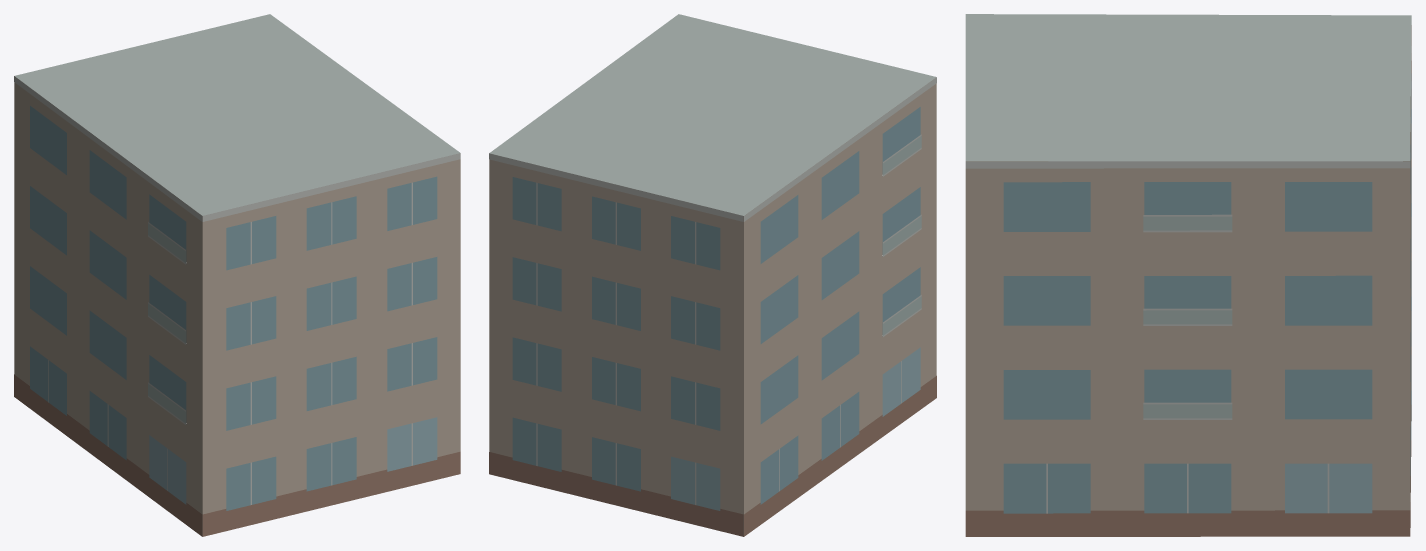
Rendered from survey-upis-32699789.glb.
3 views of the same model, side by side, from view 1: azimuth 30°, elevation 25°; view 2: azimuth 150°, elevation 25°; view 3: azimuth 270°, elevation 25° (orthographic). The views are drawn at different scales.
Visible parts, largest first — view 1: survey-upis-32699789.tmp; view 2: survey-upis-32699789.tmp; view 3: survey-upis-32699789.tmp.
Part boxes in pixels (<box>): survey-upis-32699789.tmp: <box>14,14,460,536</box>; survey-upis-32699789.tmp: <box>489,14,936,536</box>; survey-upis-32699789.tmp: <box>965,14,1411,536</box>.
Bounding box in the file's own units: 10.84 × 12.8 × 13.8.
